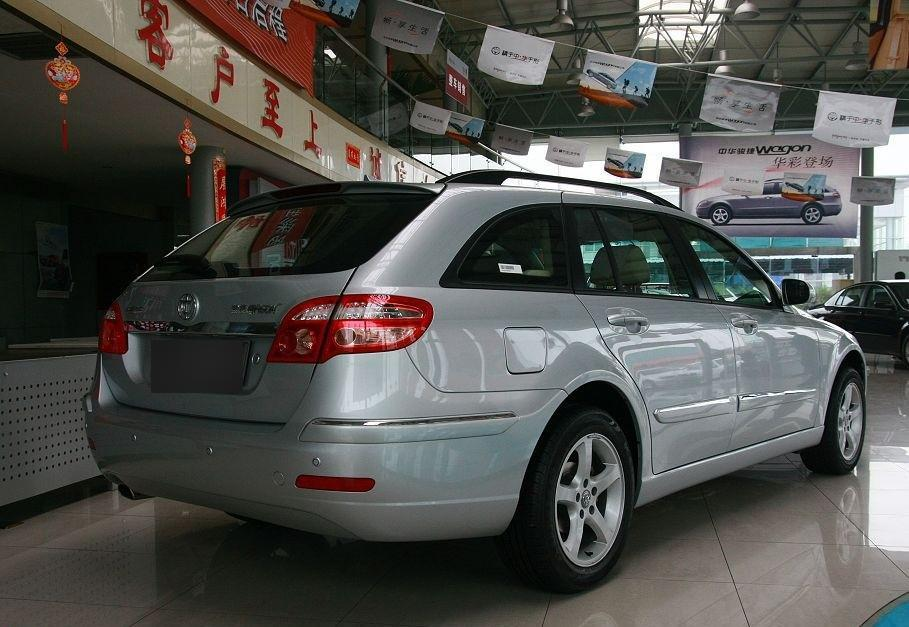Wagon: (81, 169, 868, 595)
